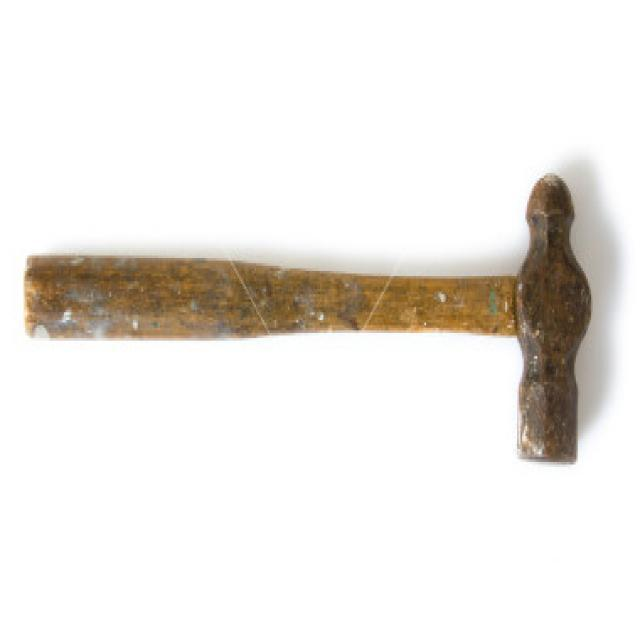hammer: (15, 140, 602, 489)
